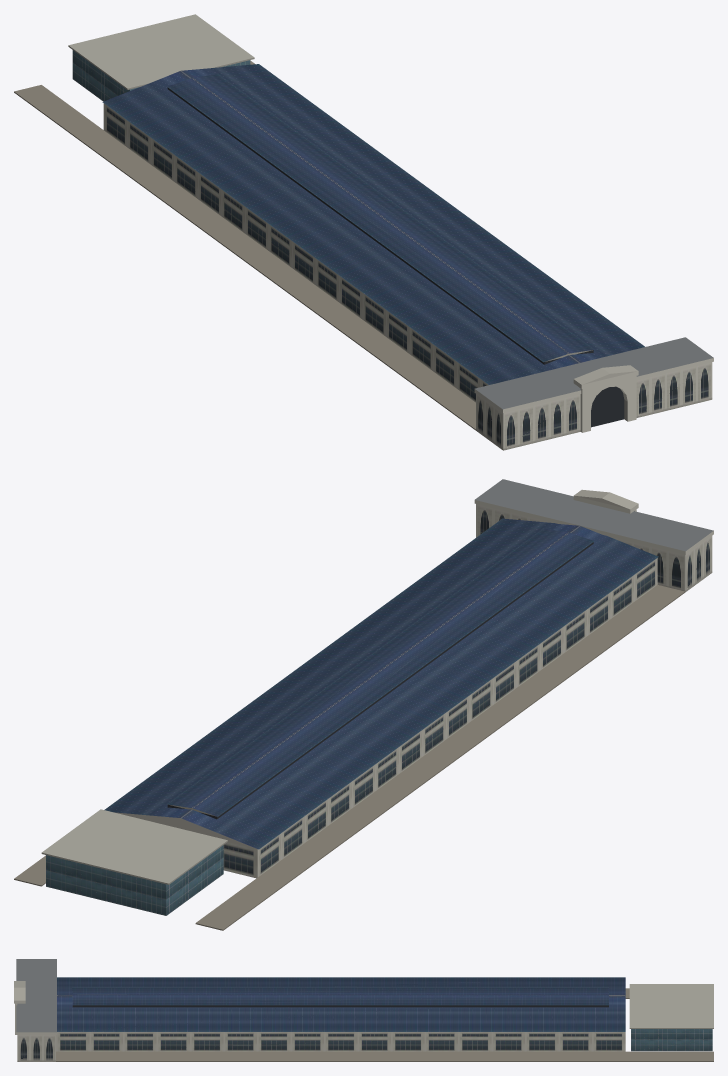
Rendered from exploratorium_pier_15.glb.
3 views of the same model, one above another, from view 1: azimuth 30°, elevation 25°; view 2: azimuth 150°, elevation 25°; view 3: azimuth 270°, elevation 25° (orthographic). The views are drawn at different scales.
Visible parts, largest first — view 1: exploratorium_pier_15; view 2: exploratorium_pier_15; view 3: exploratorium_pier_15.
Boxes of the visible parts, x1,y1,x2,y2 form: exploratorium_pier_15: (14, 14, 713, 450); exploratorium_pier_15: (14, 479, 713, 930); exploratorium_pier_15: (14, 959, 713, 1061).
Bounding box in the file's own units: 62.48 × 15.01 × 252.
2 materials, 2 textured.
